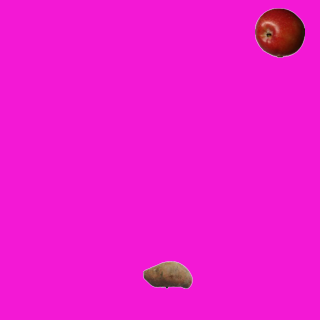Apple Braeburn: (254, 7, 304, 57)
Potato Sweet: (142, 249, 192, 299)
